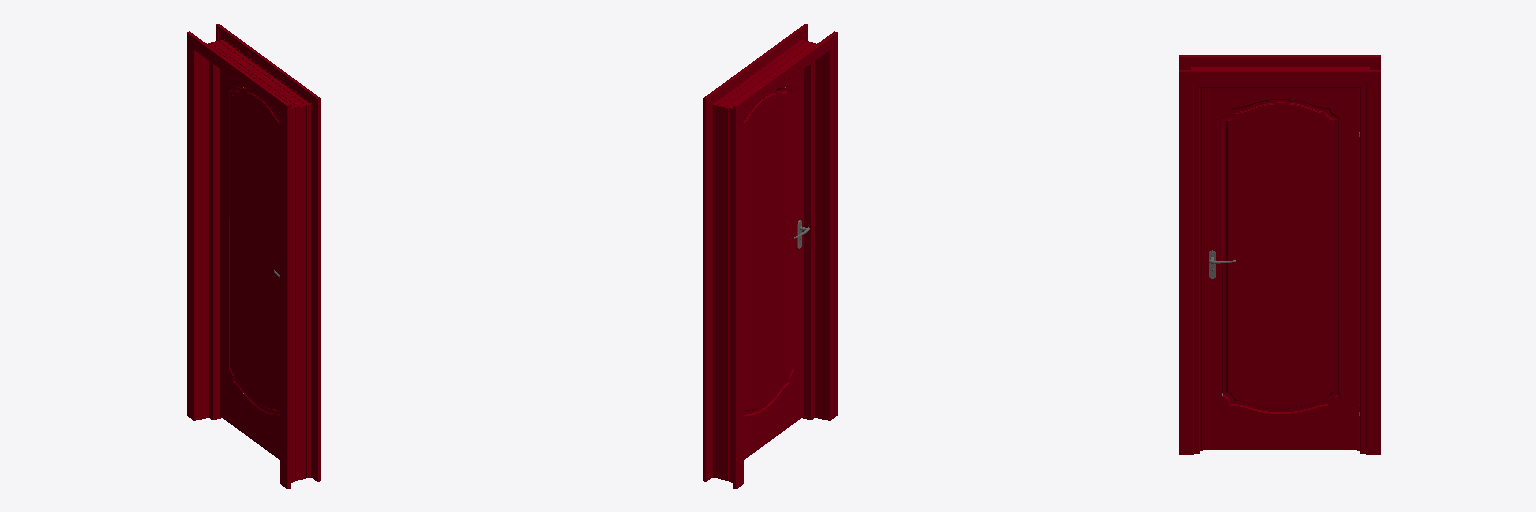
File: door04.obj
3 views of the same model, side by side, from view 1: azimuth 30°, elevation 25°; view 2: azimuth 150°, elevation 25°; view 3: azimuth 270°, elevation 25° (orthographic).
Visible parts, largest first — view 1: Object.15, Object.13, Object.14, Object.3; view 2: Object.15, Object.13, Object.14, Object.5, Object.3; view 3: Object.9, Object.15, Object.14, Object.11, Object.6.
Boxes of the visible parts, x1=… form: Object.15: x1=187, y1=24, x2=320, y2=488; Object.13: x1=232, y1=92, x2=279, y2=409; Object.14: x1=220, y1=69, x2=279, y2=459; Object.3: x1=230, y1=86, x2=279, y2=413; Object.15: x1=703, y1=24, x2=837, y2=488; Object.13: x1=744, y1=92, x2=791, y2=410; Object.14: x1=744, y1=69, x2=803, y2=459; Object.5: x1=744, y1=84, x2=794, y2=416; Object.3: x1=744, y1=86, x2=792, y2=414; Object.9: x1=1228, y1=104, x2=1333, y2=408; Object.15: x1=1179, y1=55, x2=1380, y2=454; Object.14: x1=1201, y1=88, x2=1358, y2=449; Object.11: x1=1223, y1=100, x2=1337, y2=411; Object.6: x1=1222, y1=99, x2=1339, y2=413.
Size of the model in its own units: 8.91 by 84.96 by 40.72.